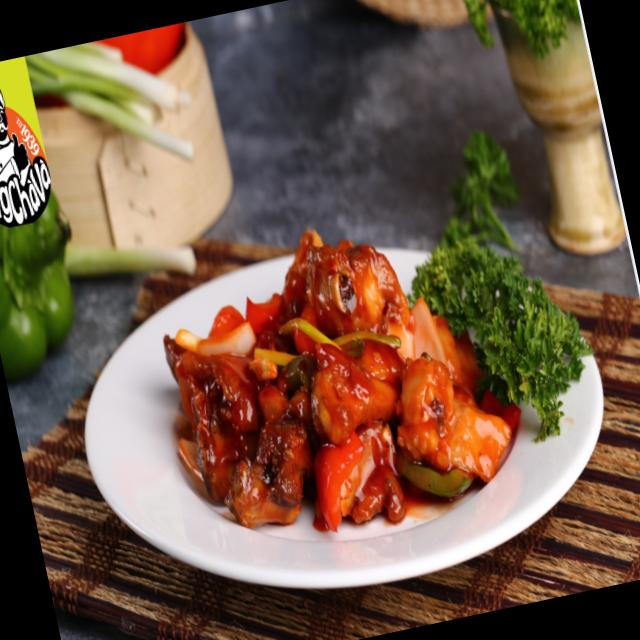suon xao: (163, 231, 519, 530)
